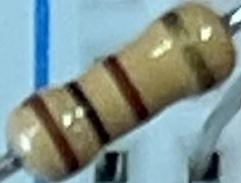Black: (61, 79, 114, 150)
Brown: (21, 91, 85, 178), (100, 51, 156, 126)
Side-Gold: (157, 9, 220, 94)
